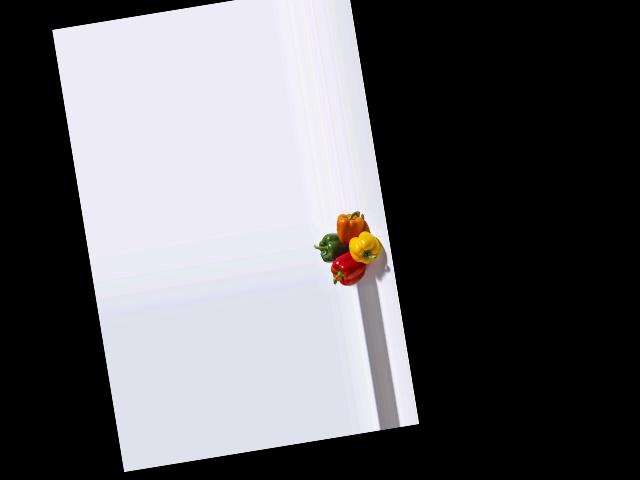bell_pepper: (325, 250, 368, 289)
